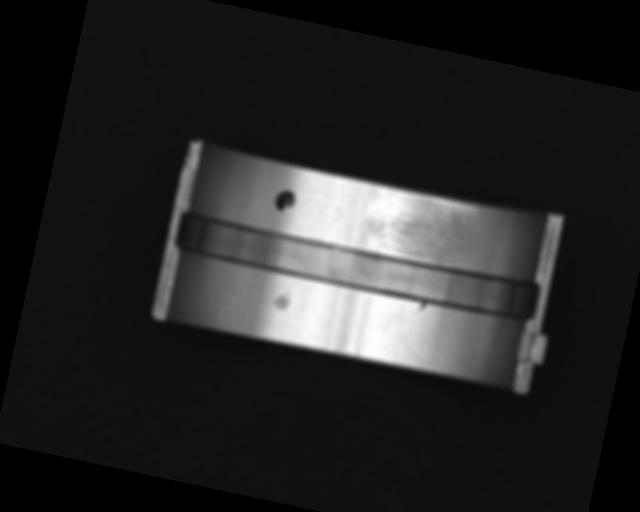blot: (272, 186, 296, 215)
bruise: (269, 286, 293, 313), (417, 300, 427, 314)
gap: (171, 208, 544, 326)
scratch: (360, 184, 477, 269)
